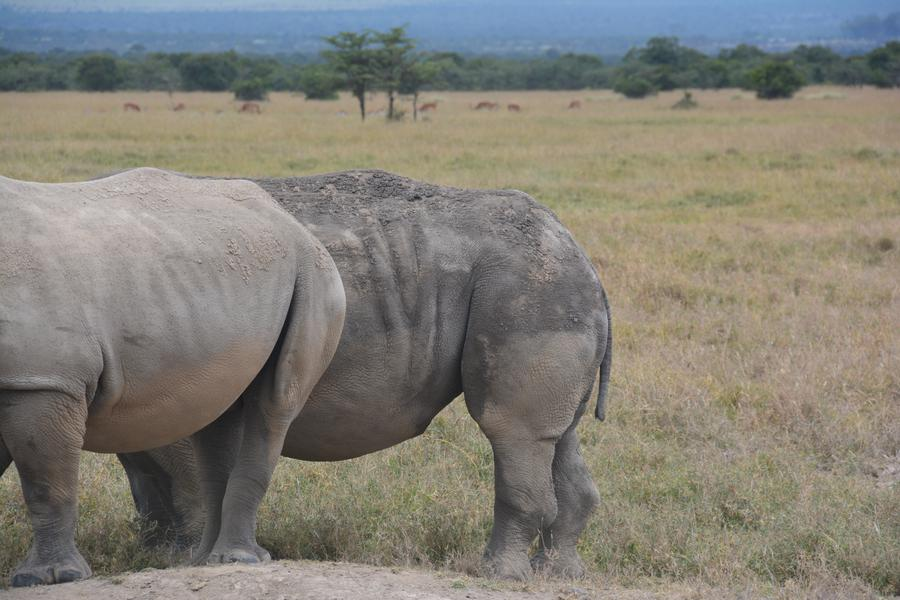rhino: (29, 183, 331, 495), (335, 181, 598, 462)
